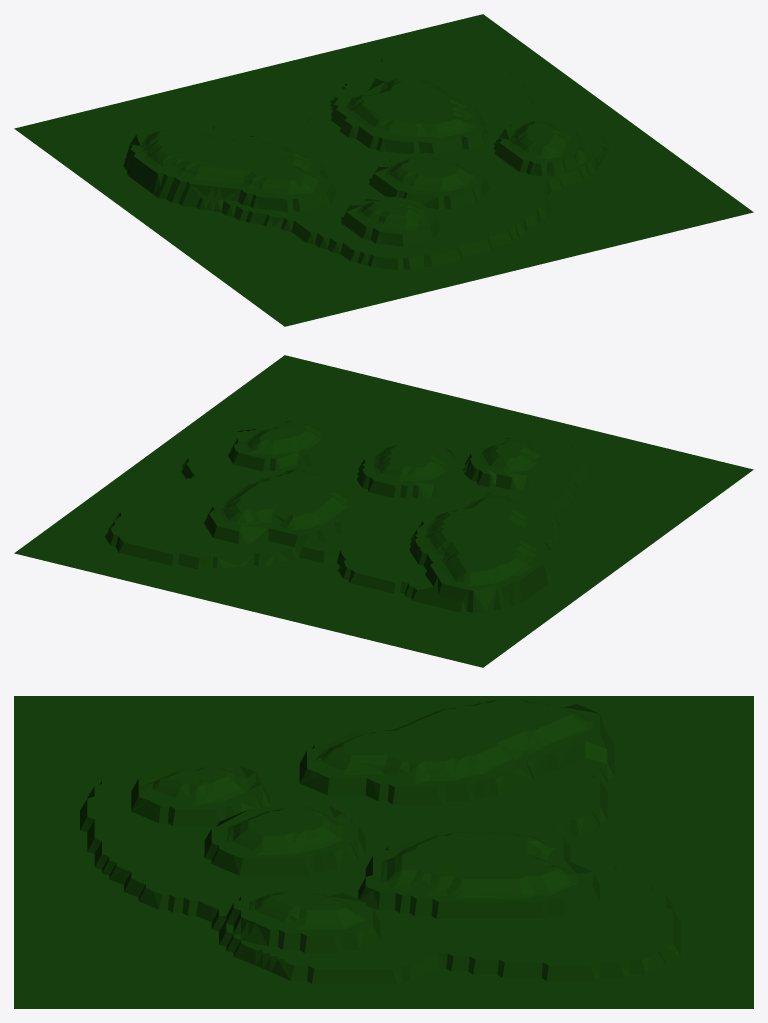
File: Terrain_Part_Plane_6.fbx
3 renders of one model, top to bottom at view 1: azimuth 30°, elevation 25°; view 2: azimuth 150°, elevation 25°; view 3: azimuth 270°, elevation 25°, orthographic. The views are drawn at different scales.
Parts seen in each view (by area): view 1: Terrain_Part_Plane_6; view 2: Terrain_Part_Plane_6; view 3: Terrain_Part_Plane_6.
Part boxes in pixels (box(x1,y1,x2,y2)): Terrain_Part_Plane_6: box(14, 14, 753, 326); Terrain_Part_Plane_6: box(14, 355, 753, 667); Terrain_Part_Plane_6: box(14, 696, 753, 1008).
Size of the model in its own units: 2000 by 110 by 2000.
